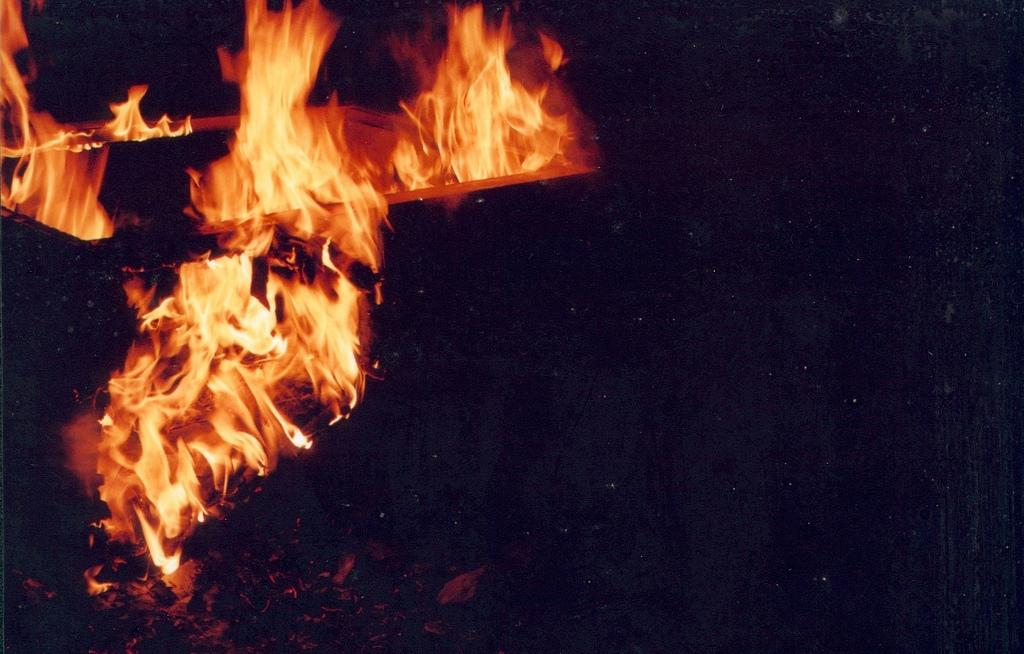fire: (145, 270, 357, 432), (233, 18, 347, 222), (412, 30, 553, 177), (5, 115, 113, 225)
